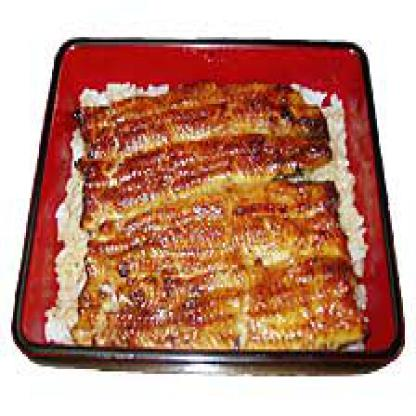eel: (76, 79, 359, 352)
